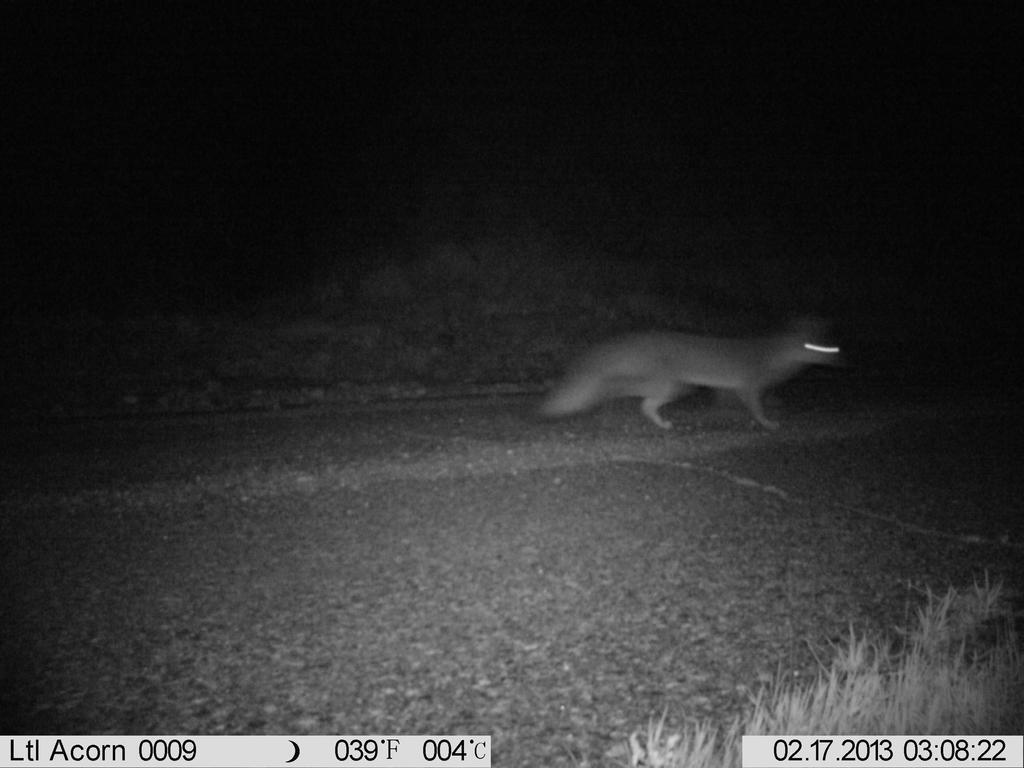fox: (534, 309, 850, 433)
